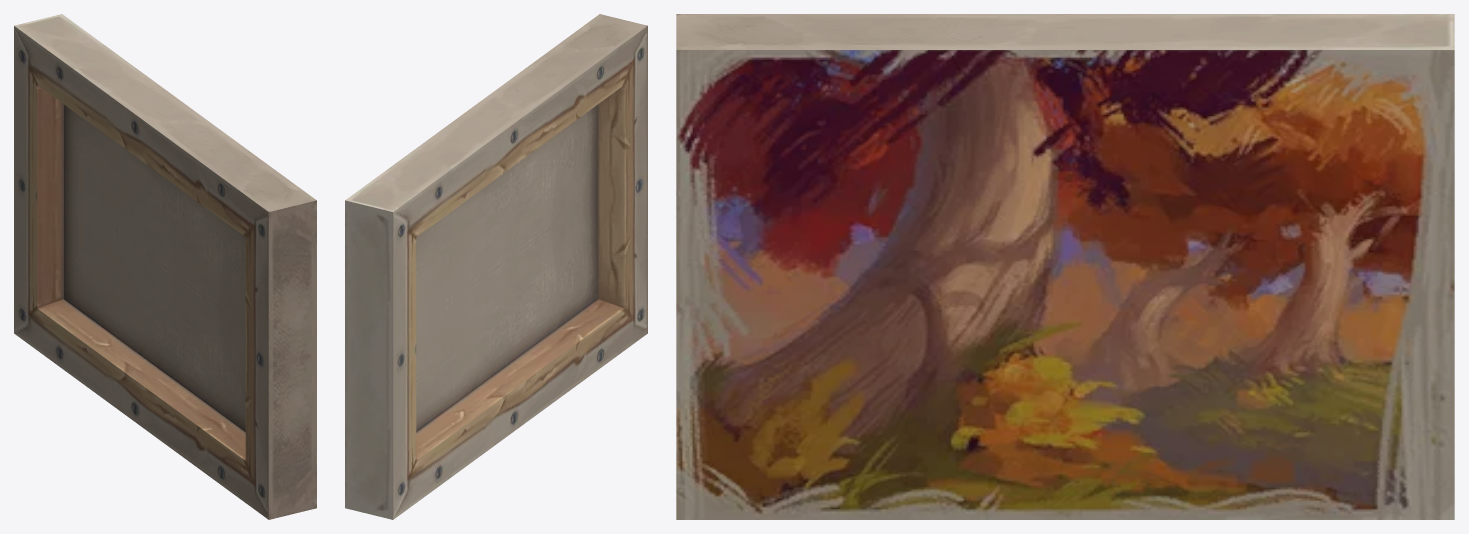
The picture shows the model from 3 angles, left to right: view 1: azimuth 30°, elevation 25°; view 2: azimuth 150°, elevation 25°; view 3: azimuth 270°, elevation 25°; orthographic projection. The views are drawn at different scales.
Bounding box in the file's own units: 0.1629 × 0.9964 × 1.49.
1 material, 1 textured.
